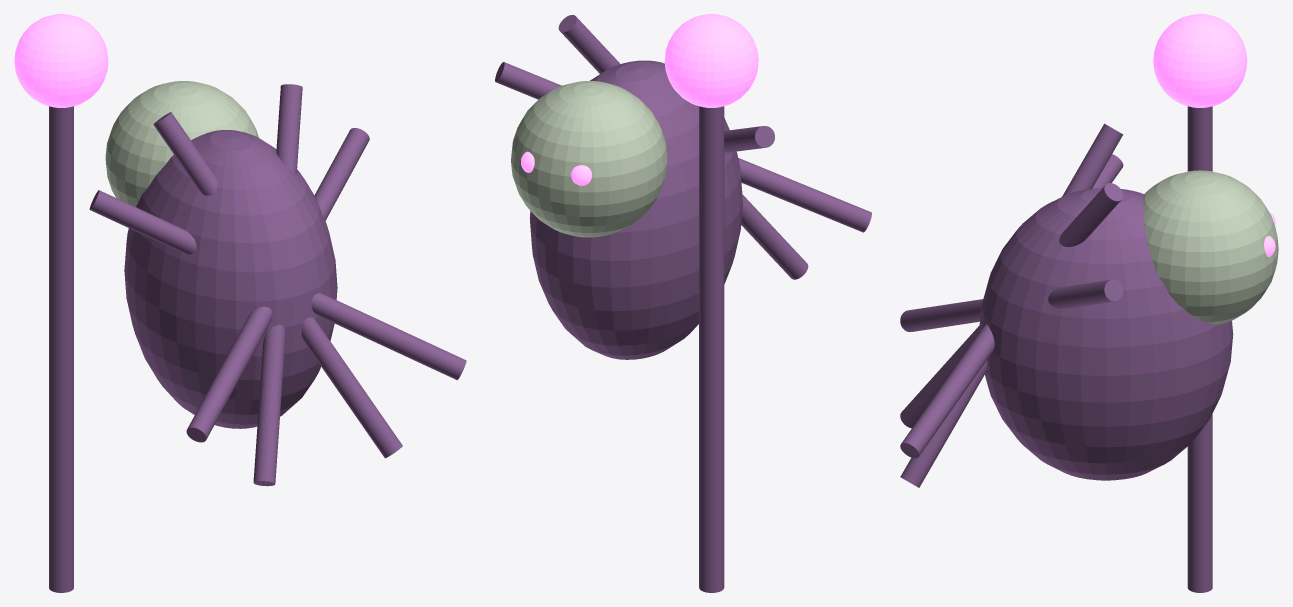
File: enemy_witch.glb
3 views of the same model, side by side, from view 1: azimuth 30°, elevation 25°; view 2: azimuth 150°, elevation 25°; view 3: azimuth 270°, elevation 25° (orthographic).
Visible parts, largest first — view 1: Sphere, Cylinder, Sphere.001, Sphere.004, Cylinder.001, Cylinder.002, Cylinder.003, Cylinder.004; view 2: Sphere, Sphere.001, Cylinder, Sphere.004, Cylinder.004, Cylinder.003, Cylinder.001; view 3: Sphere, Sphere.001, Sphere.004, Cylinder, Cylinder.001, Cylinder.002, Cylinder.004, Cylinder.003.
Boxes of the visible parts, box(x1,y1,x2,y2) form: Sphere: box(124, 130, 337, 428); Cylinder: box(49, 106, 73, 592); Sphere.001: box(105, 81, 258, 206); Sphere.004: box(14, 14, 108, 107); Cylinder.001: box(89, 190, 466, 380); Cylinder.002: box(153, 112, 402, 458); Cylinder.003: box(253, 84, 302, 486); Cylinder.004: box(186, 128, 369, 442); Sphere: box(529, 60, 742, 359); Sphere.001: box(511, 81, 667, 237); Cylinder: box(699, 106, 724, 592); Sphere.004: box(664, 14, 758, 107); Cylinder.004: box(495, 62, 871, 232); Cylinder.003: box(558, 15, 808, 279); Cylinder.001: box(724, 126, 774, 152); Sphere: box(979, 188, 1233, 480); Sphere.001: box(1143, 170, 1278, 324); Sphere.004: box(1153, 14, 1247, 107); Cylinder: box(1187, 106, 1212, 592); Cylinder.001: box(900, 154, 1123, 458); Cylinder.002: box(900, 123, 1123, 487); Cylinder.004: box(900, 279, 1123, 331); Cylinder.003: box(900, 183, 1123, 428).
Bounding box in the file's own units: 1.11 × 2 × 1.21.
